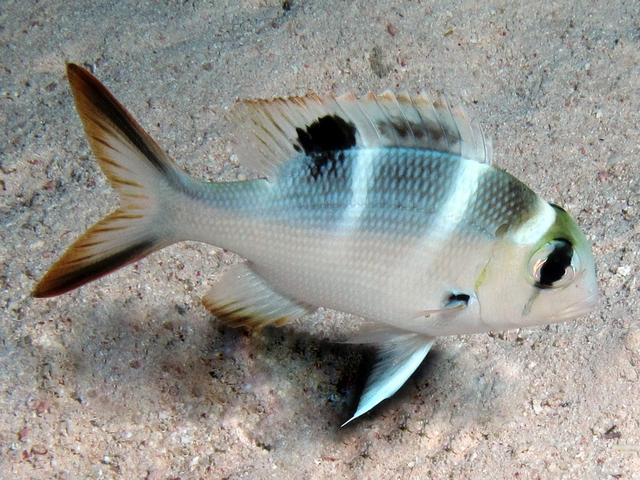fish: (19, 31, 606, 442)
